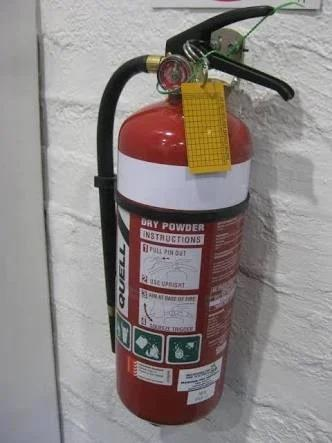wall-mounted: (48, 1, 301, 434)
